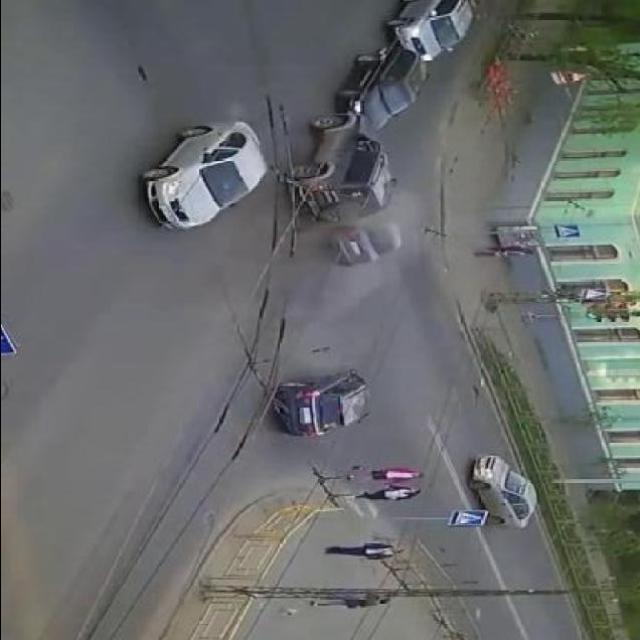accident: (286, 102, 400, 266)
